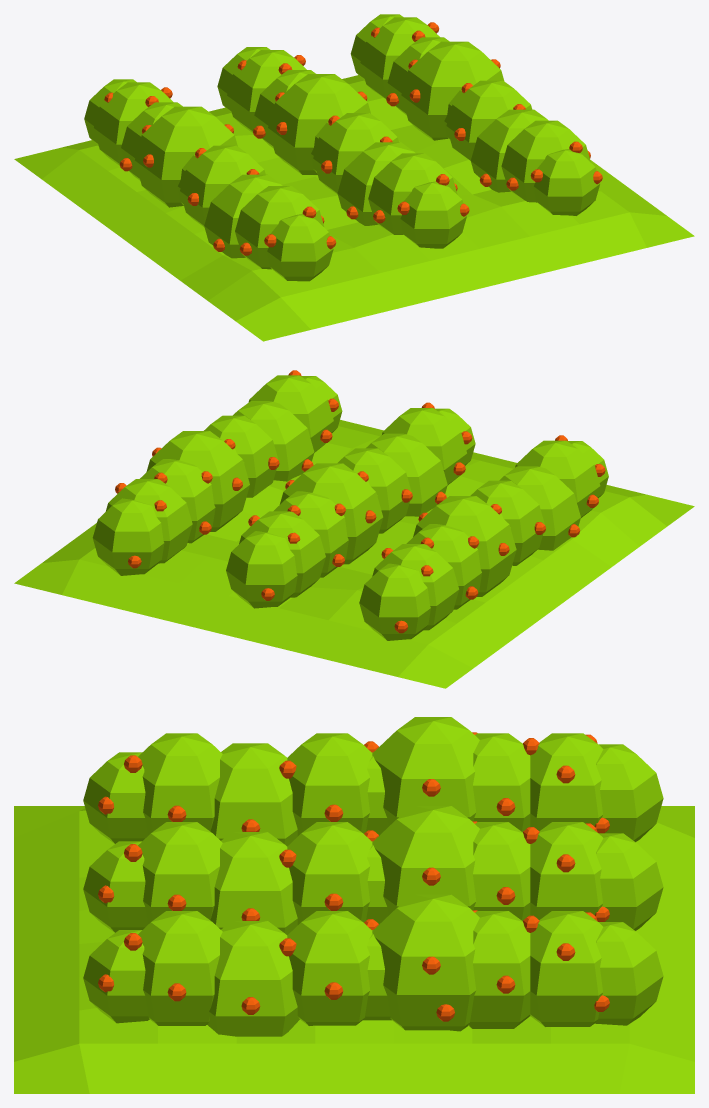
File: OrangeFarm.fbx
The picture shows the model from 3 angles, top to bottom: view 1: azimuth 30°, elevation 25°; view 2: azimuth 150°, elevation 25°; view 3: azimuth 270°, elevation 25°; orthographic projection. The views are drawn at different scales.
Visible parts, largest first — view 1: Plane.012; view 2: Plane.012; view 3: Plane.012.
Boxes of the visible parts, x1,y1,x2,y2 form: Plane.012: [14, 14, 694, 341]; Plane.012: [14, 370, 694, 688]; Plane.012: [14, 717, 694, 1093].
Size of the model in its own units: 2457 by 630 by 2457.
